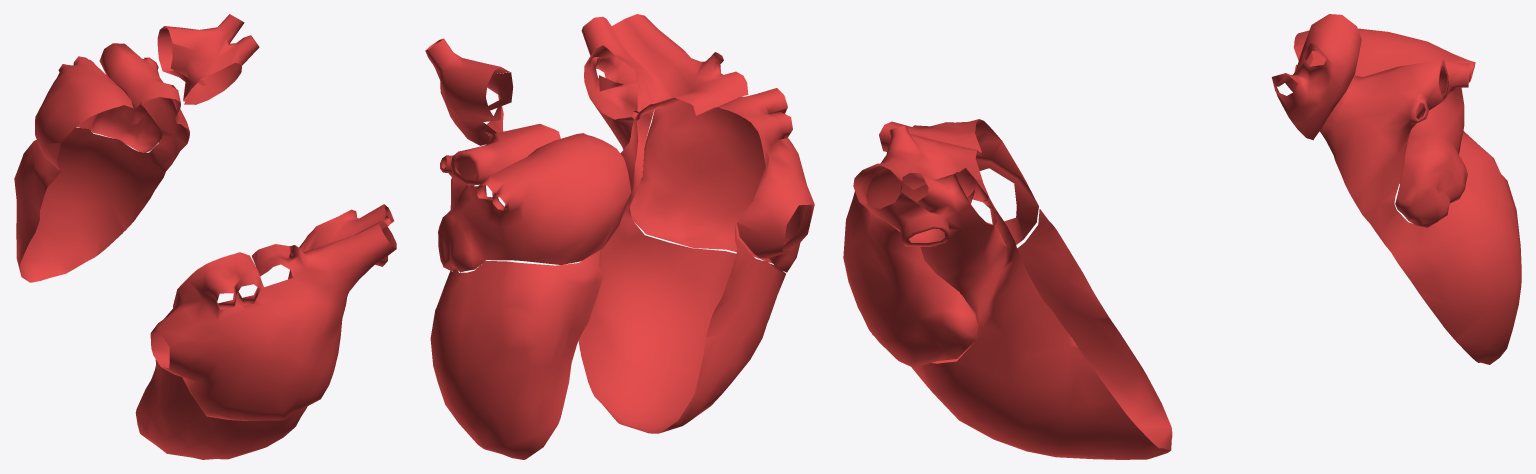
The model's file is heart2.fbx.
3 renders of one model, left to right at view 1: azimuth 30°, elevation 25°; view 2: azimuth 150°, elevation 25°; view 3: azimuth 270°, elevation 25°, orthographic. The views are drawn at different scales.
Parts seen in each view (by area): view 1: coeur.001, coeur; view 2: coeur.001, coeur; view 3: coeur.001, coeur.
Boxes of the visible parts, x1,y1,x2,y2 form: coeur.001: [135, 204, 396, 459]; coeur: [14, 14, 259, 282]; coeur.001: [578, 14, 814, 433]; coeur: [425, 38, 631, 459]; coeur.001: [843, 119, 1172, 459]; coeur: [1271, 14, 1521, 364].
Bounding box in the file's own units: 220 × 353 × 446.
